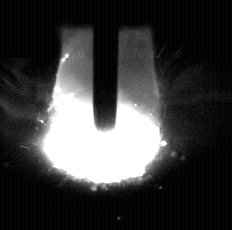arame: (94, 0, 119, 131)
poca: (42, 0, 163, 230)
